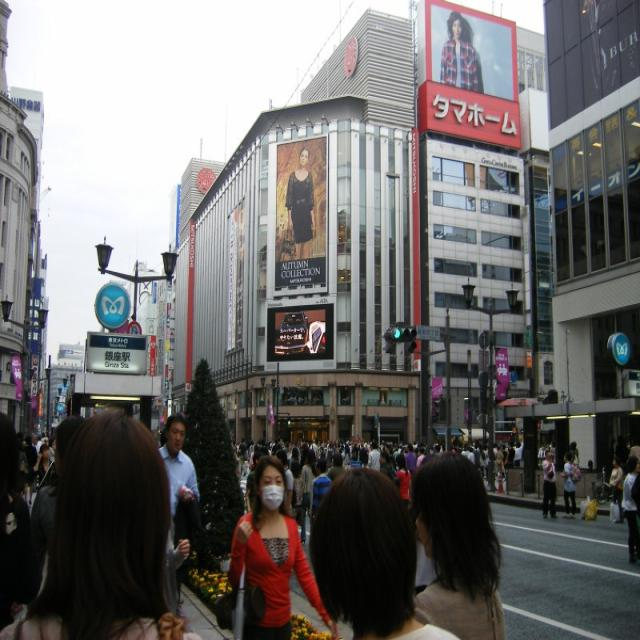body: (0, 407, 203, 640), (306, 464, 462, 639), (213, 450, 339, 639), (147, 424, 523, 486), (407, 450, 508, 640), (29, 412, 90, 558), (157, 410, 202, 604), (0, 410, 32, 632), (537, 432, 640, 490), (280, 146, 320, 274), (437, 3, 486, 93), (22, 419, 55, 490), (620, 453, 640, 561), (300, 447, 318, 547), (559, 450, 582, 521), (244, 449, 266, 514), (312, 458, 333, 520), (607, 455, 625, 525), (165, 529, 190, 578), (274, 448, 294, 509), (22, 433, 38, 507), (394, 451, 414, 510), (542, 449, 558, 521), (32, 442, 55, 491), (629, 465, 640, 530), (326, 451, 346, 482), (378, 449, 395, 483), (367, 440, 382, 472), (403, 442, 418, 474), (415, 446, 427, 469), (351, 441, 359, 462)
